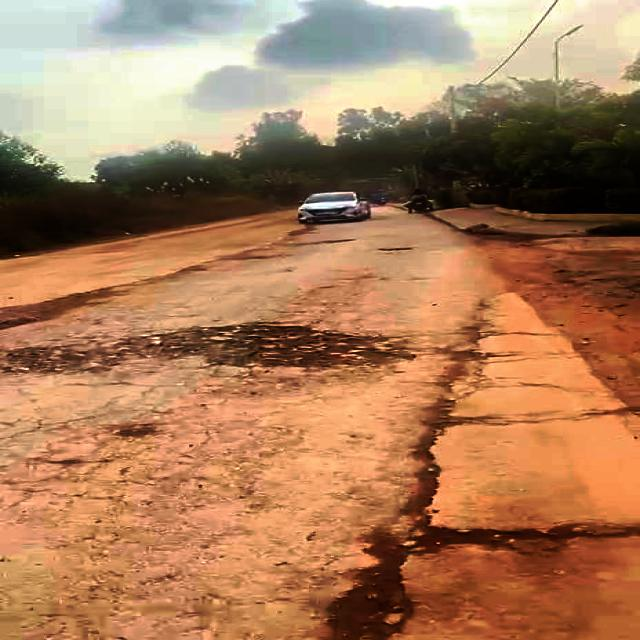pothole: (311, 508, 640, 640), (176, 321, 410, 373), (0, 344, 123, 383)
